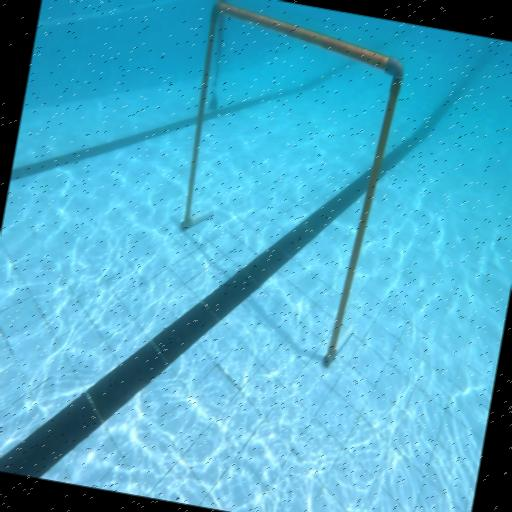gate: (154, 0, 410, 372)
